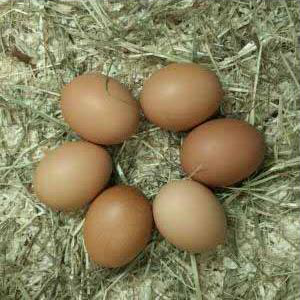egg: (83, 183, 153, 268), (181, 119, 265, 188), (141, 62, 223, 132), (32, 141, 113, 211), (153, 179, 228, 253), (61, 75, 140, 144)
